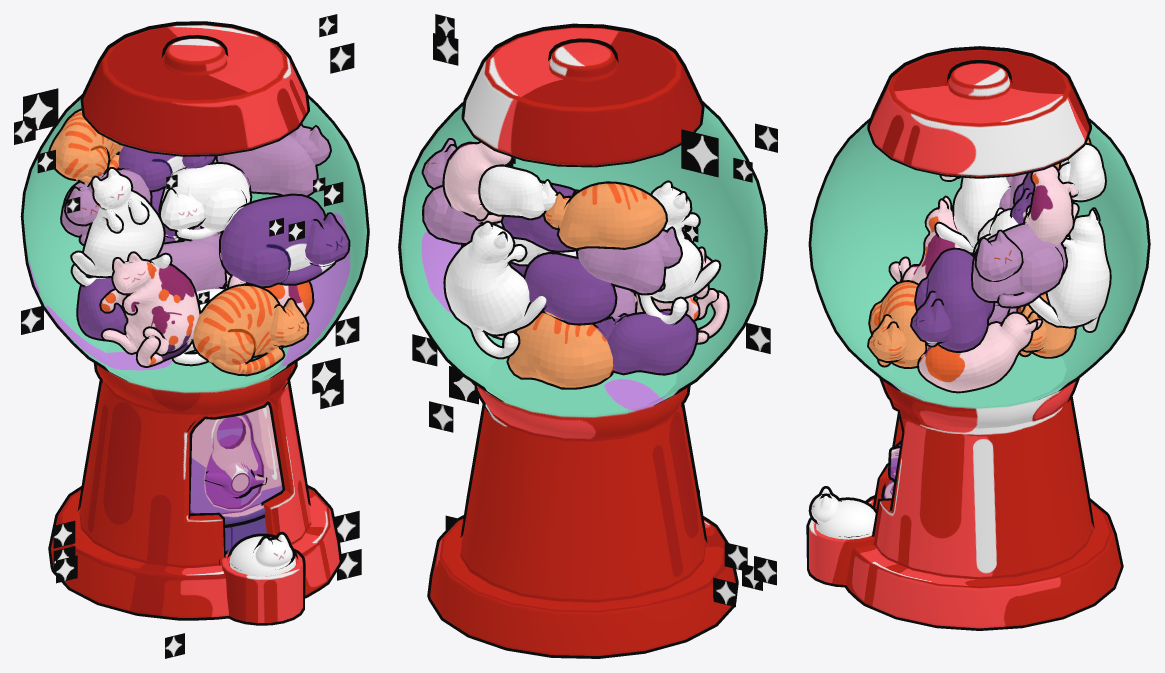
The model's file is cat_dispenser.glb.
The picture shows the model from 3 angles, left to right: view 1: azimuth 30°, elevation 25°; view 2: azimuth 150°, elevation 25°; view 3: azimuth 270°, elevation 25°; orthographic projection. The views are drawn at different scales.
Visible parts, largest first — view 1: Object_17, Object_14, Object_2, Object_3, Object_15, Object_13, Object_4, Object_8, Object_7, Object_12, Object_5; view 2: Object_17, Object_14, Object_2, Object_3, Object_11, Object_12, Object_4, Object_8, Object_10, Object_7, Object_15; view 3: Object_17, Object_14, Object_3, Object_15, Object_13, Object_4, Object_12, Object_11, Object_6, Object_7.
Boxes of the visible parts, x1,y1,x2,y2 form: Object_17: (23, 24, 366, 623); Object_14: (50, 110, 348, 365); Object_2: (14, 14, 361, 658); Object_3: (20, 21, 369, 625); Object_15: (159, 195, 319, 314); Object_13: (75, 155, 334, 576); Object_4: (48, 123, 350, 570); Object_8: (64, 167, 256, 364); Object_7: (99, 251, 200, 367); Object_12: (76, 285, 310, 511); Object_5: (158, 162, 325, 287); Object_17: (401, 27, 764, 655); Object_14: (423, 140, 727, 387); Object_2: (412, 14, 777, 606); Object_3: (398, 23, 767, 658); Object_11: (443, 181, 667, 359); Object_12: (460, 164, 707, 542); Object_4: (421, 138, 738, 602); Object_8: (630, 180, 721, 325); Object_10: (500, 180, 617, 325); Object_7: (693, 241, 729, 344); Object_15: (511, 263, 635, 324); Object_17: (809, 49, 1147, 628); Object_14: (869, 139, 1109, 391); Object_3: (806, 46, 1150, 630); Object_15: (919, 249, 1040, 382); Object_13: (811, 292, 1039, 539); Object_4: (865, 163, 1123, 569); Object_12: (873, 143, 1106, 528); Object_11: (1028, 137, 1111, 332); Object_6: (917, 311, 1043, 393); Object_7: (888, 195, 952, 282).
Bounding box in the file's own units: 3.19 × 4.75 × 2.83.
4 materials, 3 textured.
